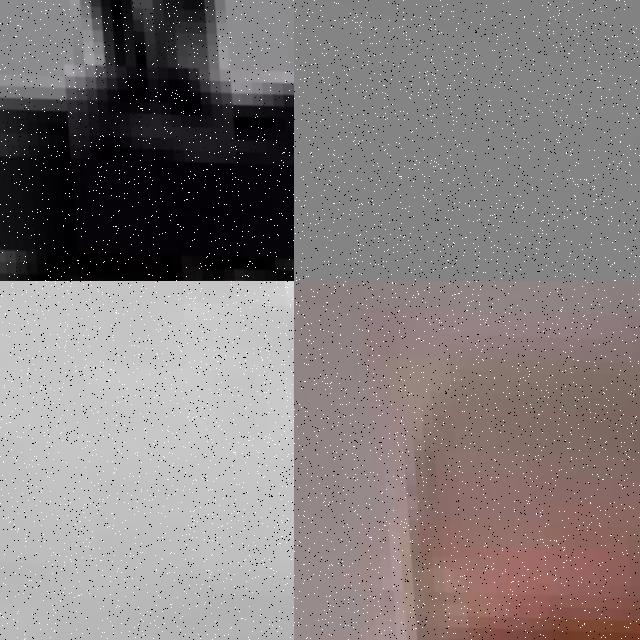0: (0, 0, 294, 281)
drone: (294, 281, 640, 640), (0, 281, 294, 640)
